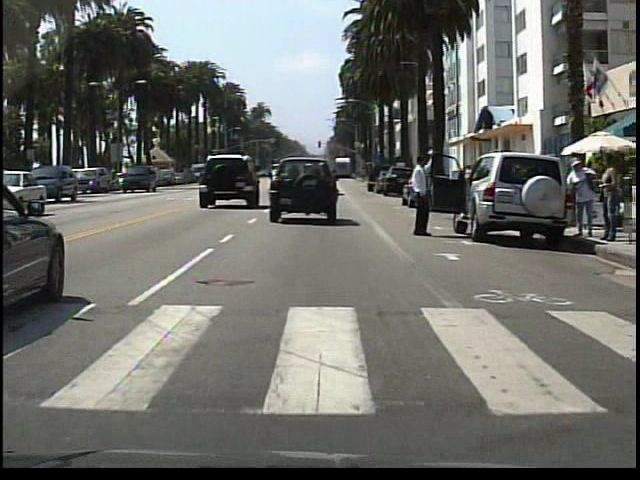person: (410, 149, 446, 247), (564, 150, 595, 243), (595, 147, 621, 246)
